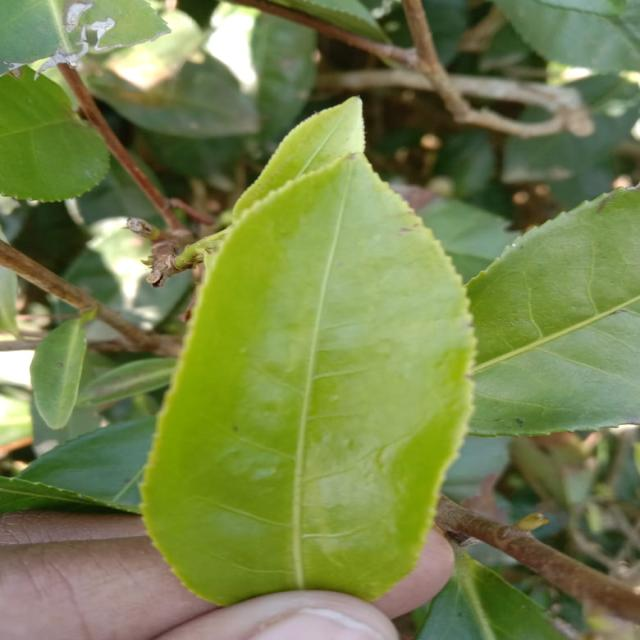Category B(2-4 days): (133, 142, 484, 618)
